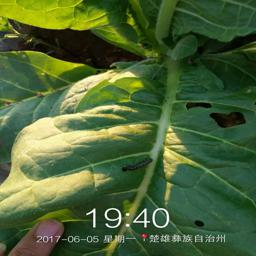Tobacco_budworm: (120, 157, 154, 172)
